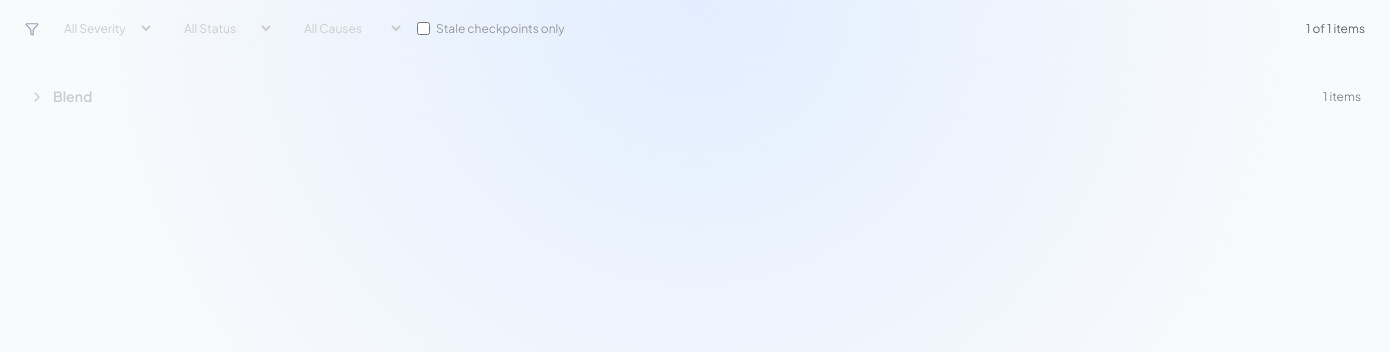
Test: PortfolioReconcile › evidence display › shows ledger and tx hash in evidence
Click the button "Blend 1 items": {"x": 73, "y": 96} x1=12 y1=73 x2=1378 y2=120
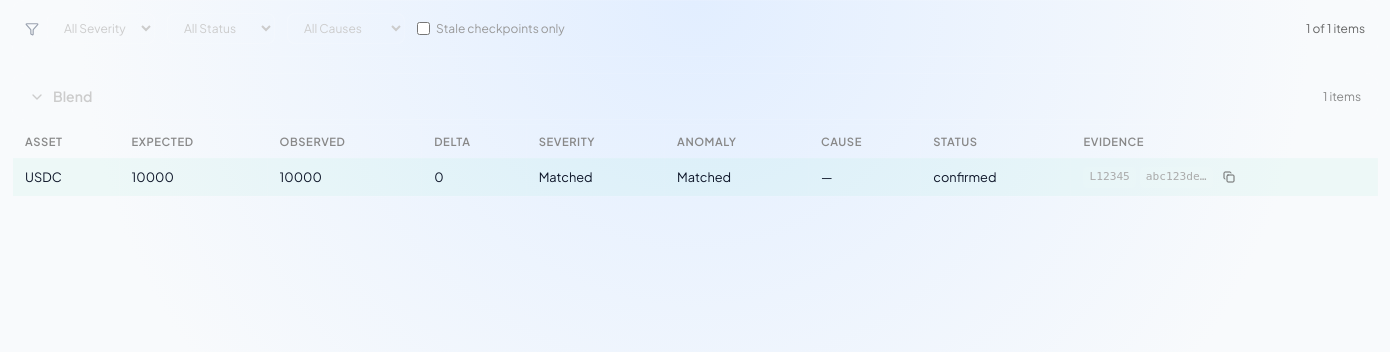
Expected: the text "L12345" is shown, x1=1083 y1=167 x2=1136 y2=188
Expected: the text "abc123de…" is shown, x1=1140 y1=167 x2=1212 y2=188
